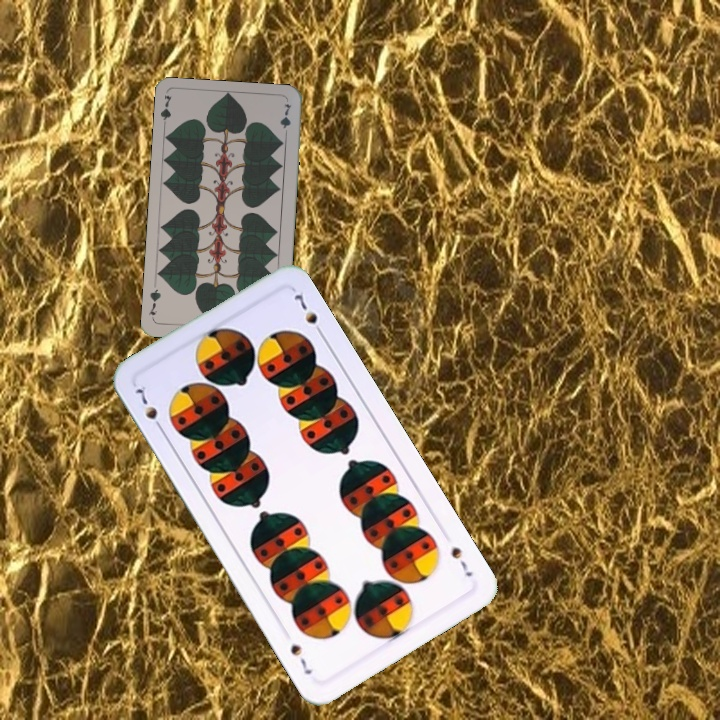G7: (157, 92, 174, 132)
S7: (132, 382, 167, 435), (447, 542, 476, 580)
